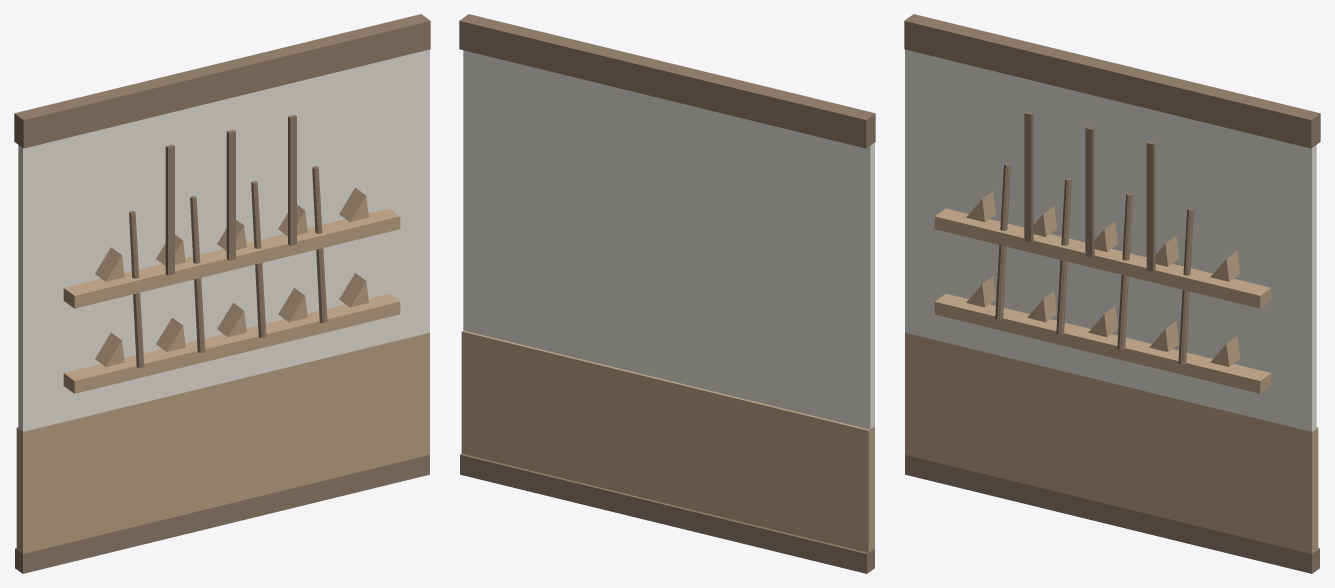
File: dojo_wall.glb
The picture shows the model from 3 angles, left to right: view 1: azimuth 30°, elevation 25°; view 2: azimuth 150°, elevation 25°; view 3: azimuth 330°, elevation 25°; orthographic projection.
Visible parts, largest first — view 1: wall-weapon-rack; view 2: wall-weapon-rack; view 3: wall-weapon-rack.
Boxes of the visible parts, box(x1,y1,x2,y2) form: wall-weapon-rack: box(14, 14, 430, 573); wall-weapon-rack: box(459, 14, 875, 573); wall-weapon-rack: box(904, 14, 1320, 573).
Bounding box in the file's own units: 3 × 3.2 × 0.2859.
